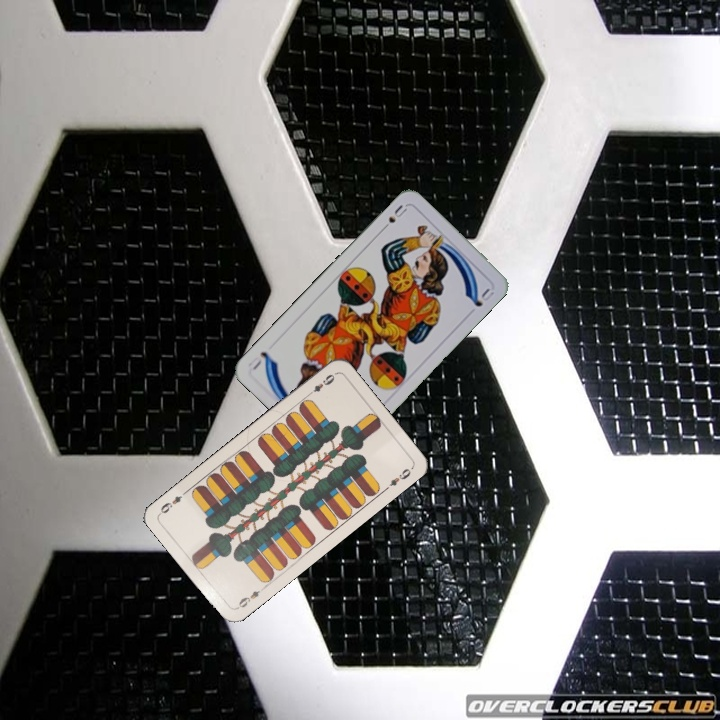E9: (304, 369, 338, 399), (233, 583, 268, 612)
SU: (377, 201, 410, 234)
